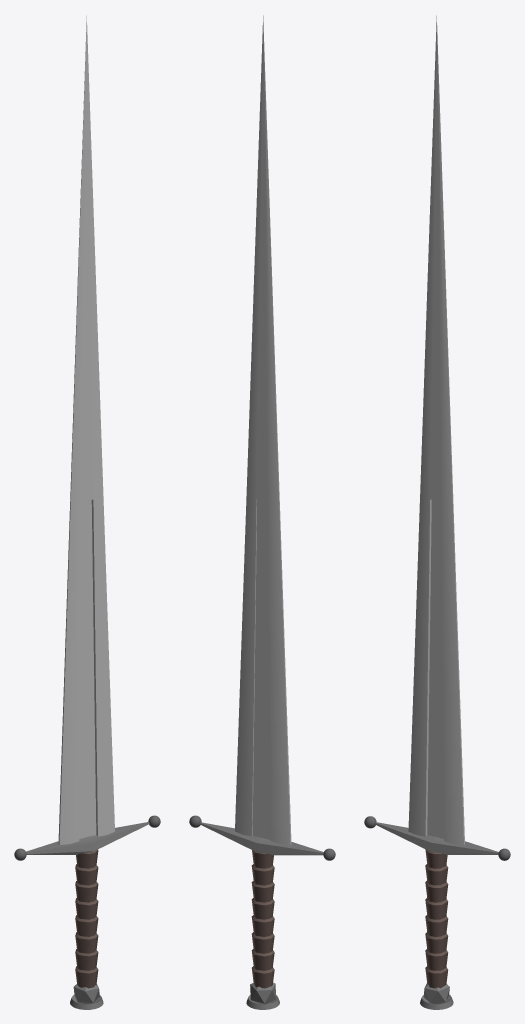
File: Bastard Sword.fbx
The picture shows the model from 3 angles, left to right: view 1: azimuth 30°, elevation 25°; view 2: azimuth 150°, elevation 25°; view 3: azimuth 330°, elevation 25°; orthographic projection.
Parts seen in each view (by area): view 1: Bastard_Sword_The_Throat; view 2: Bastard_Sword_The_Throat; view 3: Bastard_Sword_The_Throat.
Part boxes in pixels (box(x1,y1,x2,y2)): Bastard_Sword_The_Throat: box(14, 15, 160, 1009); Bastard_Sword_The_Throat: box(189, 15, 335, 1009); Bastard_Sword_The_Throat: box(364, 15, 510, 1009).
Size of the model in its own units: 24.22 by 159 by 4.89.
